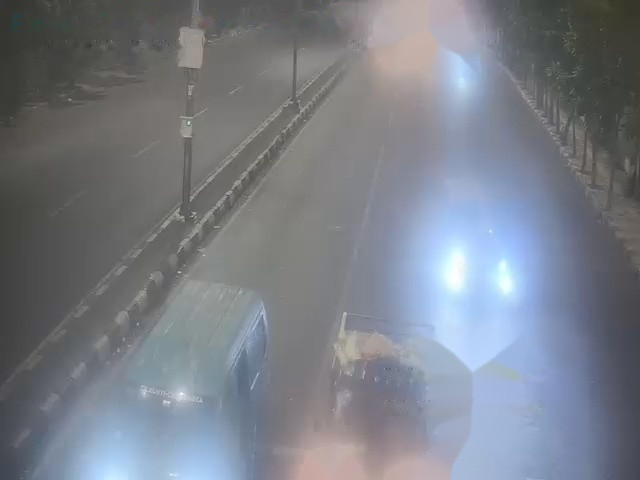Mobil: (107, 274, 266, 480), (322, 316, 438, 480), (443, 214, 516, 312)
